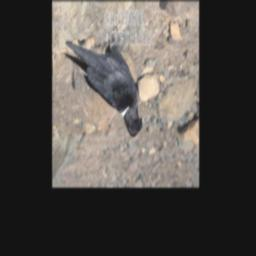Crow: (63, 22, 146, 138)
